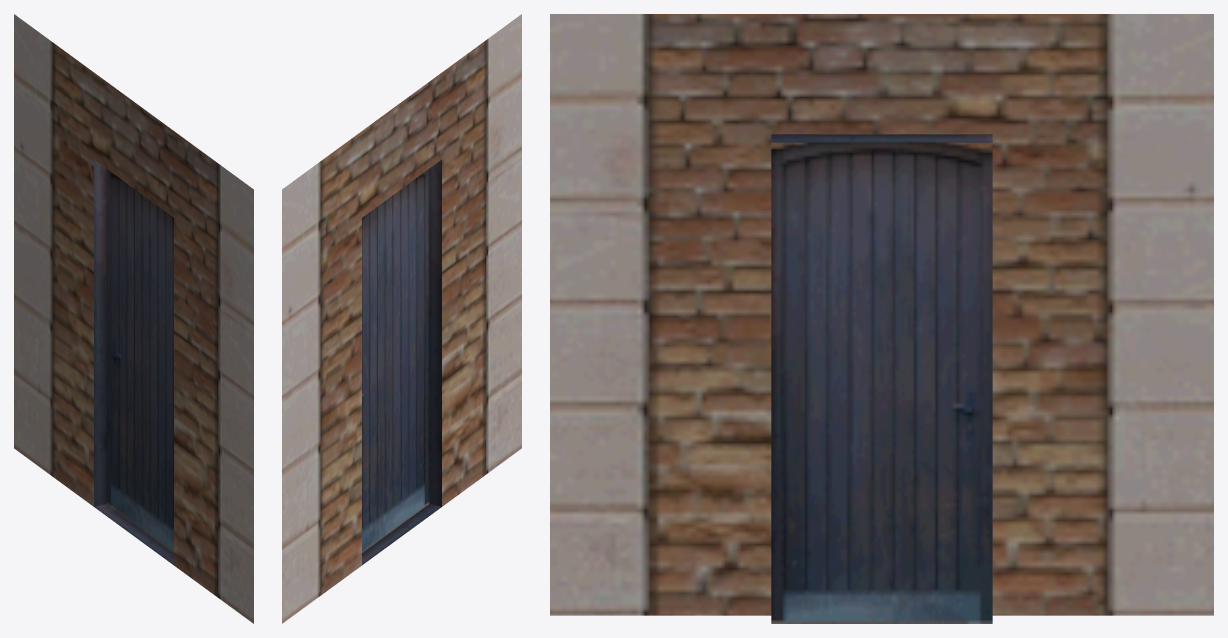
The model's file is Urban_FancyBrickWallDoorIndent_Model.fbx.
3 renders of one model, left to right at view 1: azimuth 30°, elevation 25°; view 2: azimuth 150°, elevation 25°; view 3: azimuth 270°, elevation 25°, orthographic. The views are drawn at different scales.
Parts seen in each view (by area): view 1: Urban_FancyBrickWallDoorIndent_Mesh; view 2: Urban_FancyBrickWallDoorIndent_Mesh; view 3: Urban_FancyBrickWallDoorIndent_Mesh.
Part boxes in pixels (x1,y1,x2,y2): Urban_FancyBrickWallDoorIndent_Mesh: (14,14,253,623); Urban_FancyBrickWallDoorIndent_Mesh: (282,14,521,623); Urban_FancyBrickWallDoorIndent_Mesh: (550,14,1213,623).
Size of the model in its own units: 0.0635 by 2.1 by 2.1.
